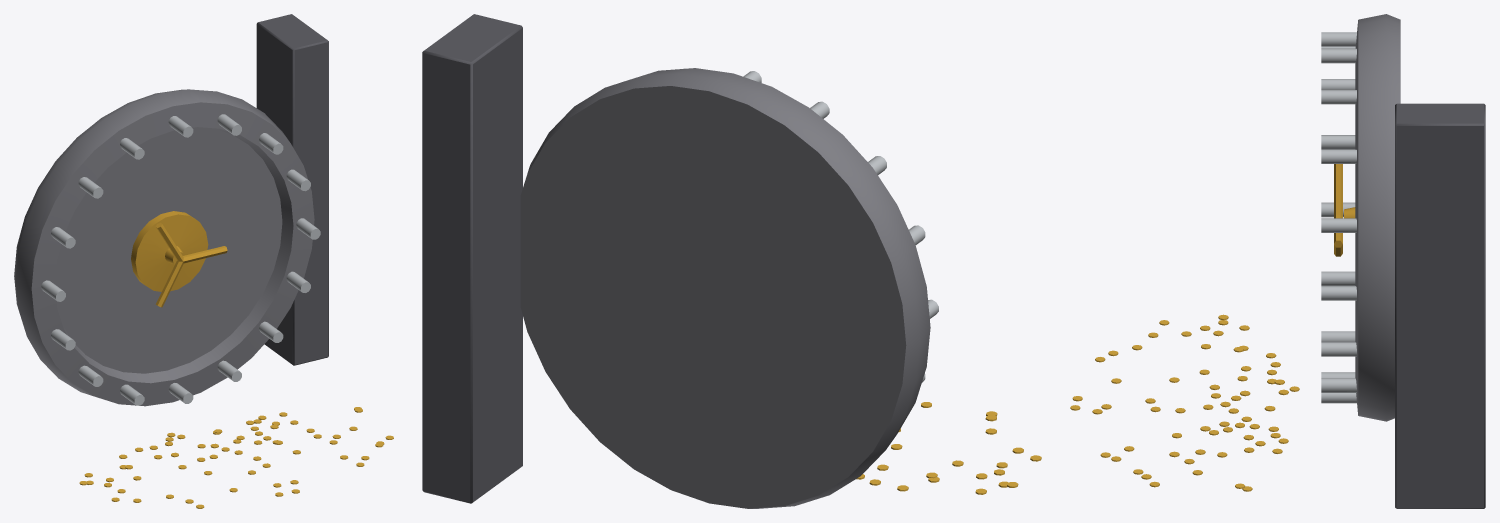
File: vault_door.glb
3 renders of one model, left to right at view 1: azimuth 30°, elevation 25°; view 2: azimuth 150°, elevation 25°; view 3: azimuth 270°, elevation 25°, orthographic. The views are drawn at different scales.
Visible parts, largest first — view 1: vault_door; view 2: vault_door; view 3: vault_door.
Part boxes in pixels (x1=…): vault_door: x1=14, y1=14, x2=393, y2=508; vault_door: x1=422, y1=14, x2=1041, y2=508; vault_door: x1=1070, y1=14, x2=1485, y2=508.
Size of the model in its own units: 15.85 by 15 by 14.66.
